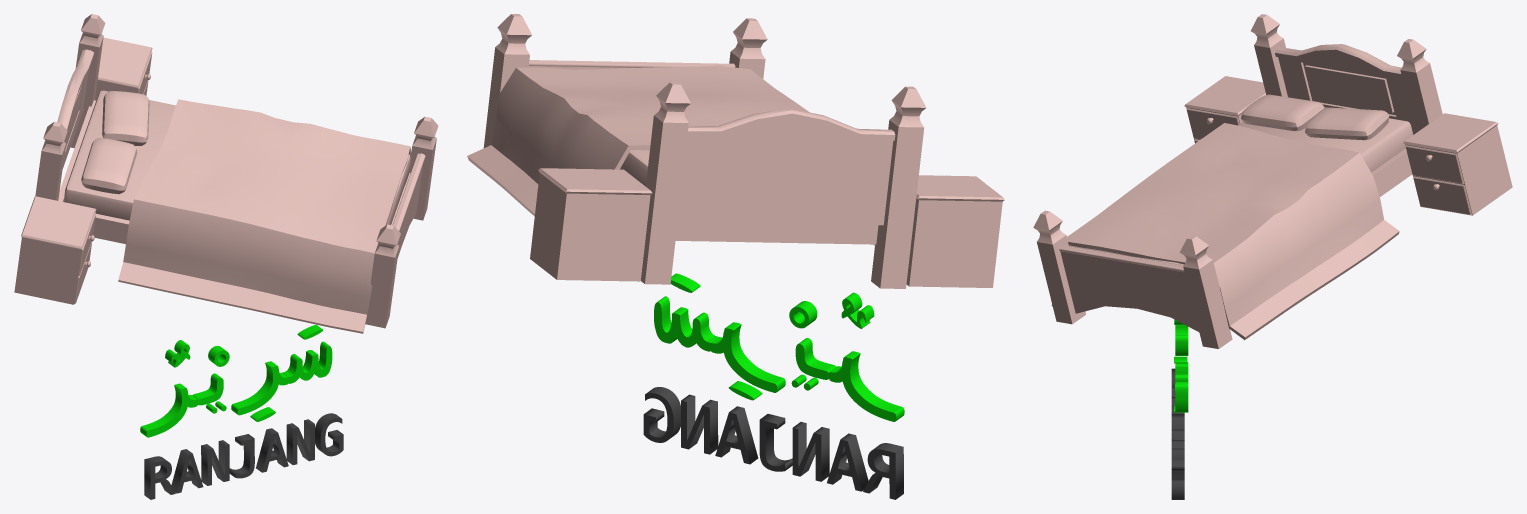
The model's file is bed.fbx.
3 views of the same model, side by side, from view 1: azimuth 30°, elevation 25°; view 2: azimuth 150°, elevation 25°; view 3: azimuth 270°, elevation 25° (orthographic). The views are drawn at different scales.
Parts seen in each view (by area): view 1: Cube.004, Teks, Text; view 2: Cube.004, Teks, Text, Text.002, Text.004; view 3: Cube.004, Teks, Text.
Part boxes in pixels (x1=…): Cube.004: x1=14, y1=14, x2=438, y2=333; Teks: x1=144, y1=413, x2=343, y2=499; Text: x1=140, y1=341, x2=332, y2=437; Cube.004: x1=467, y1=14, x2=1004, y2=288; Teks: x1=643, y1=387, x2=903, y2=499; Text: x1=654, y1=296, x2=904, y2=421; Text.002: x1=841, y1=292, x2=874, y2=328; Text.004: x1=789, y1=301, x2=817, y2=328; Cube.004: x1=1033, y1=14, x2=1512, y2=348; Teks: x1=1171, y1=368, x2=1184, y2=499; Text: x1=1175, y1=325, x2=1188, y2=412.
Size of the model in its own units: 735 by 673 by 738.
